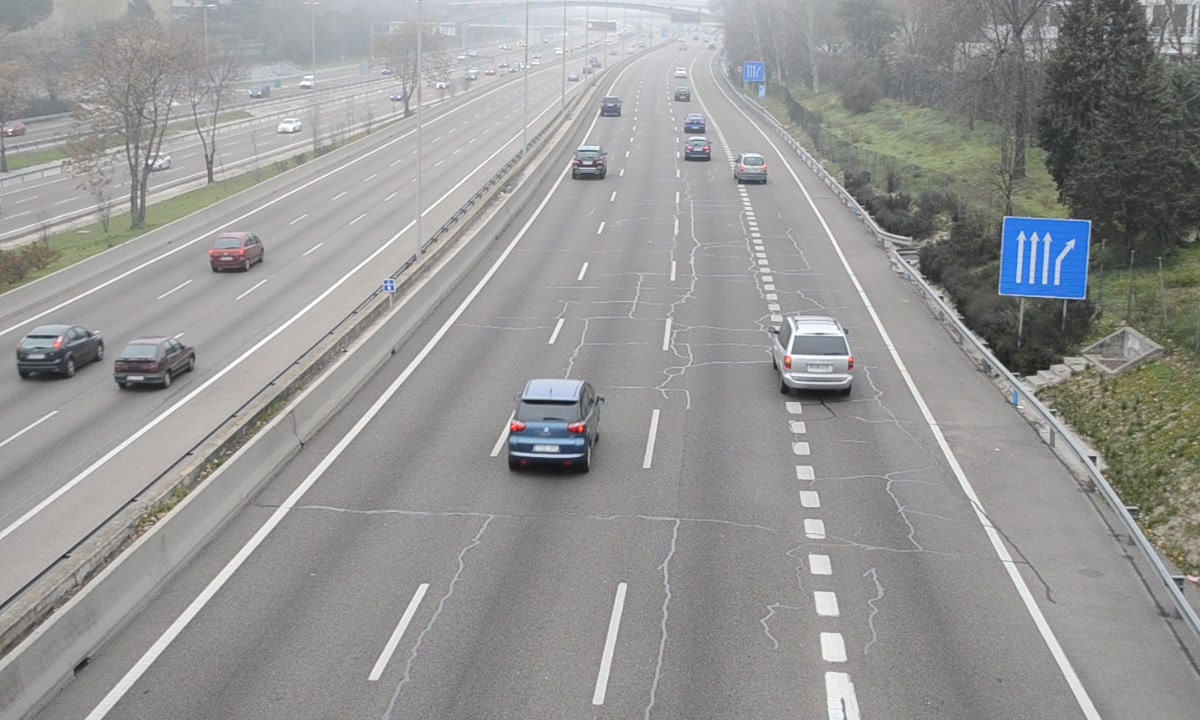car: (507, 380, 601, 464), (773, 316, 856, 389), (572, 145, 606, 181), (734, 151, 768, 184), (684, 135, 712, 163)
